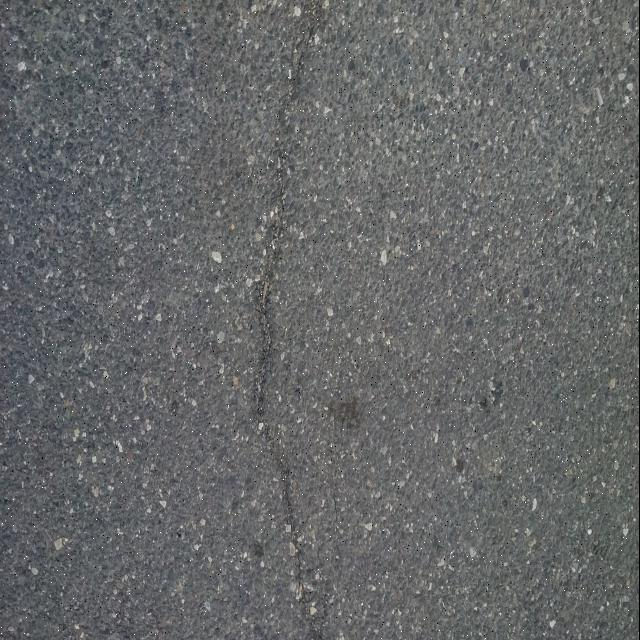Crack: (256, 0, 329, 640)
